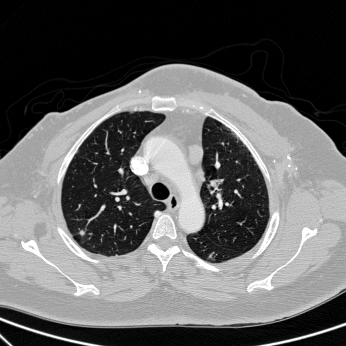nodule: (79, 231, 83, 235)
